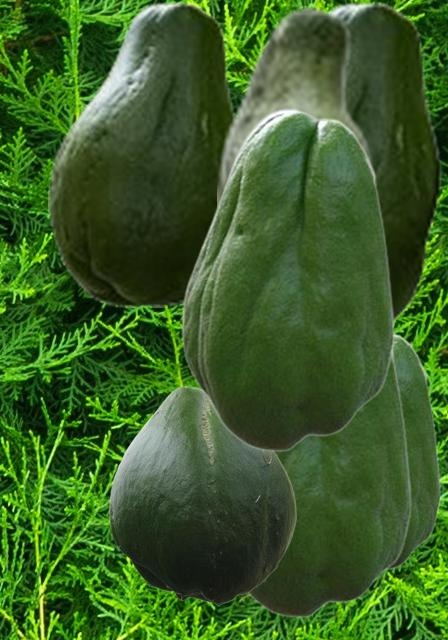sayote: (181, 108, 394, 451), (48, 1, 238, 306), (247, 349, 411, 617), (109, 386, 295, 605), (326, 1, 440, 328), (217, 6, 373, 202), (389, 333, 440, 571)
